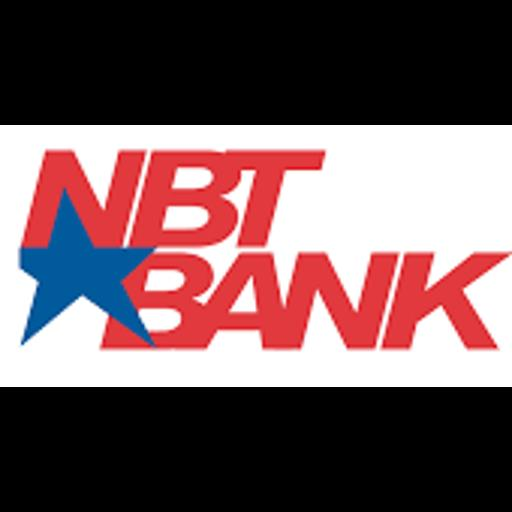NBT Bank: (0, 125, 512, 387)
